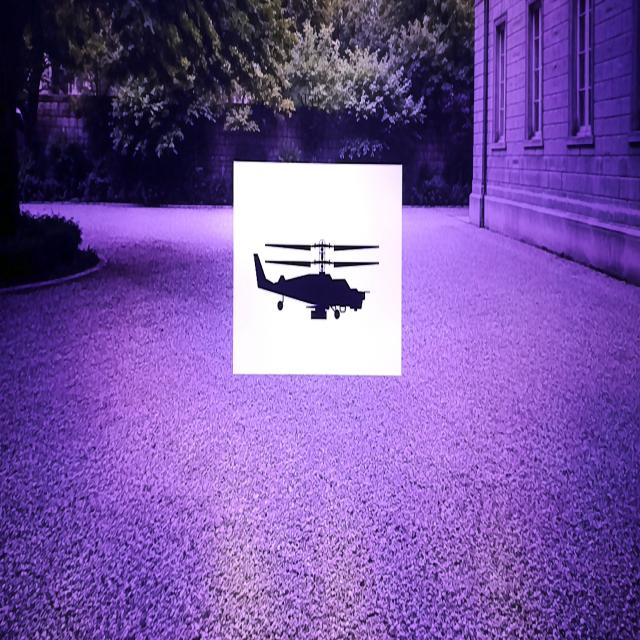Ka-52 Enemy: (254, 240, 378, 319)
